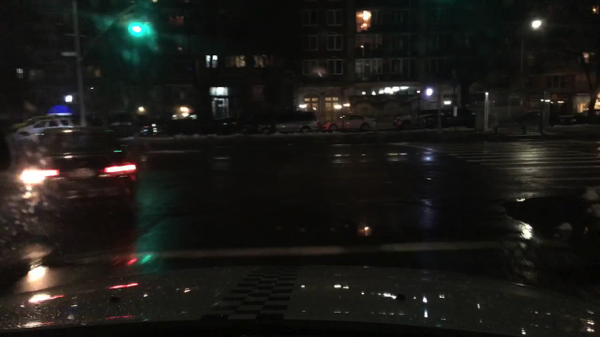car: (18, 125, 139, 218), (8, 119, 81, 149), (259, 111, 319, 134), (322, 113, 375, 132), (392, 110, 443, 128), (110, 110, 135, 136), (6, 117, 44, 133), (444, 113, 477, 126), (511, 111, 538, 126), (139, 121, 162, 137), (576, 108, 598, 124), (241, 122, 262, 133)
traffic light: (134, 11, 141, 37), (65, 94, 75, 104)
traffic sign: (58, 51, 76, 58)
truck: (166, 114, 237, 134)
